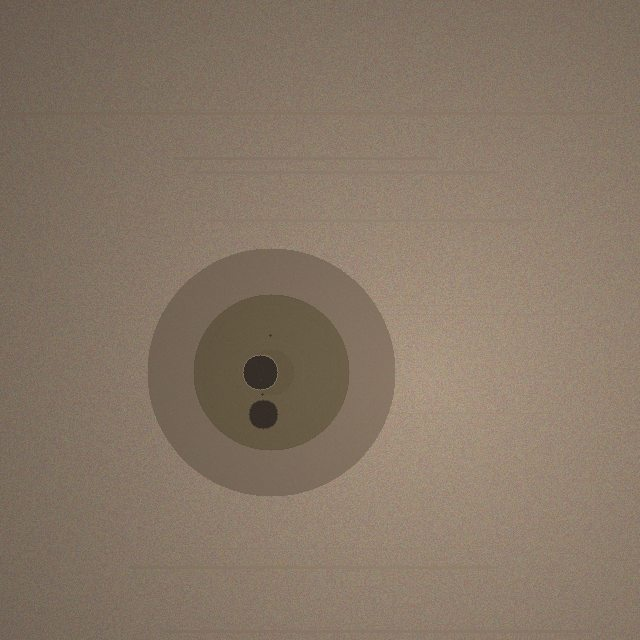shrinkage: (147, 248, 395, 496)
